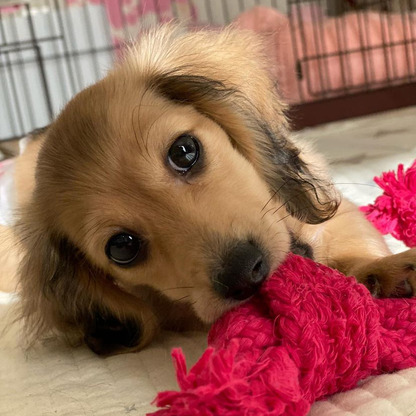dachshund: (35, 34, 330, 326)
